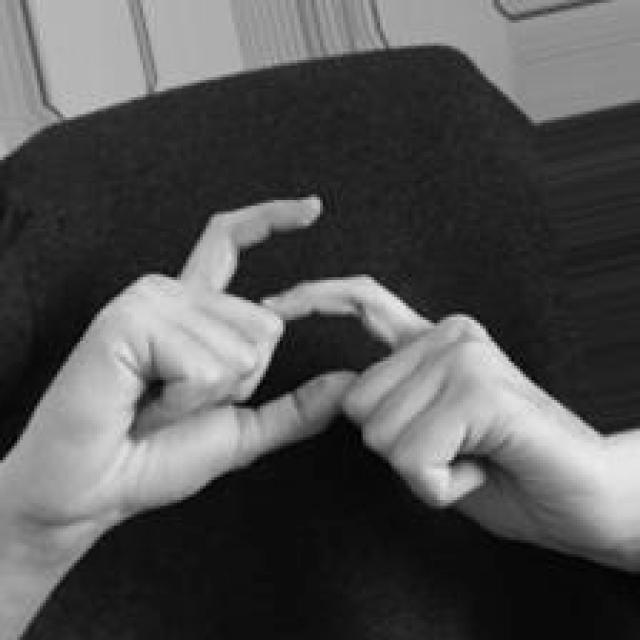G: (1, 194, 608, 640)
